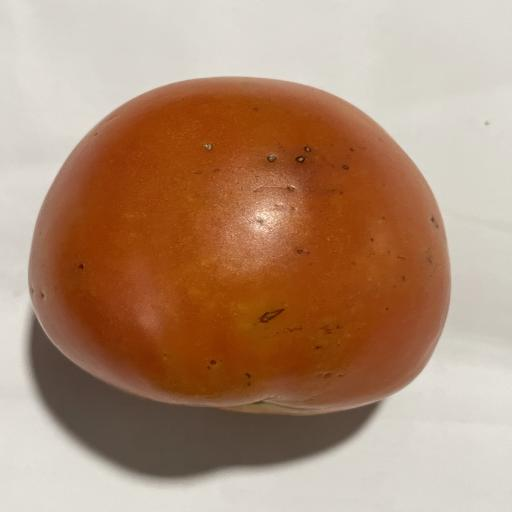ripe: (29, 78, 450, 414)
